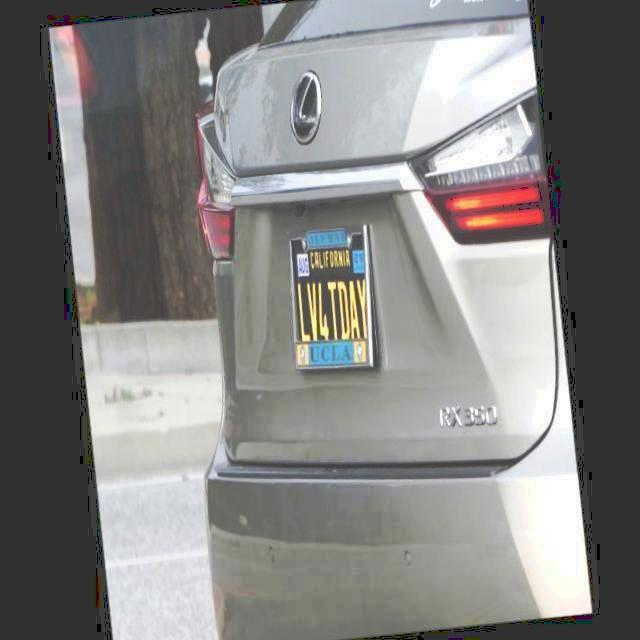license_plate: (283, 221, 380, 382)
